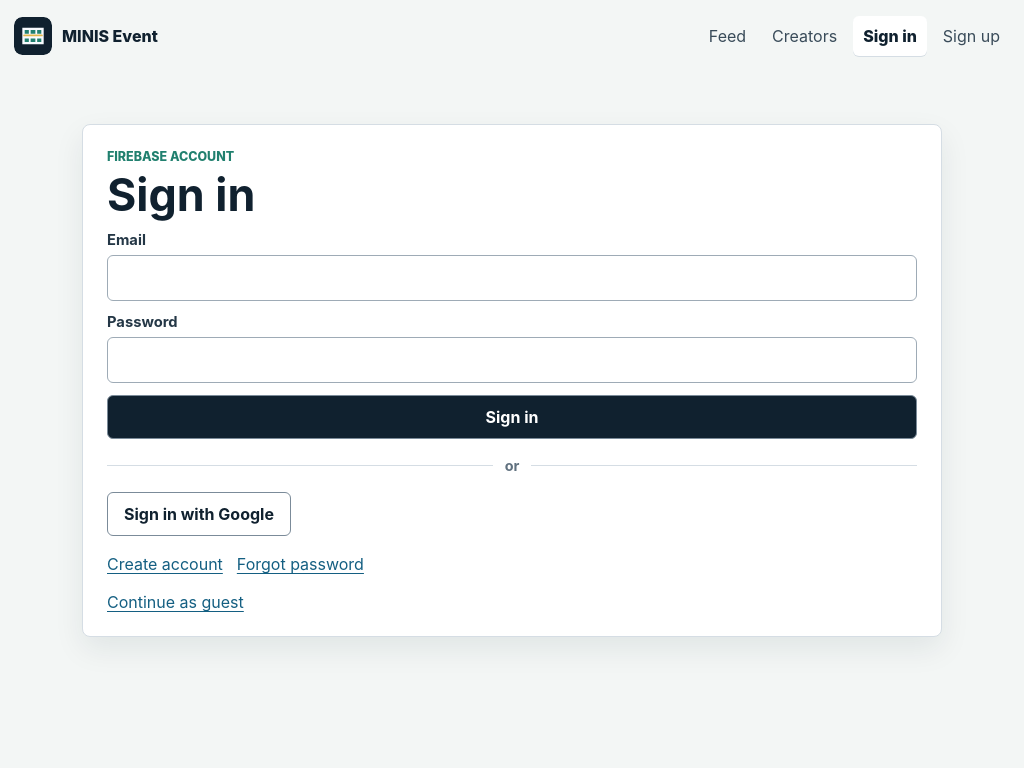
it: AppRoutes authentication routes › routes unverified password sign-in to email verification without bootstrap
Step 1. Type "viewer@example.com" into the field labelled "Email" → [512, 278], box [107,255,917,301]
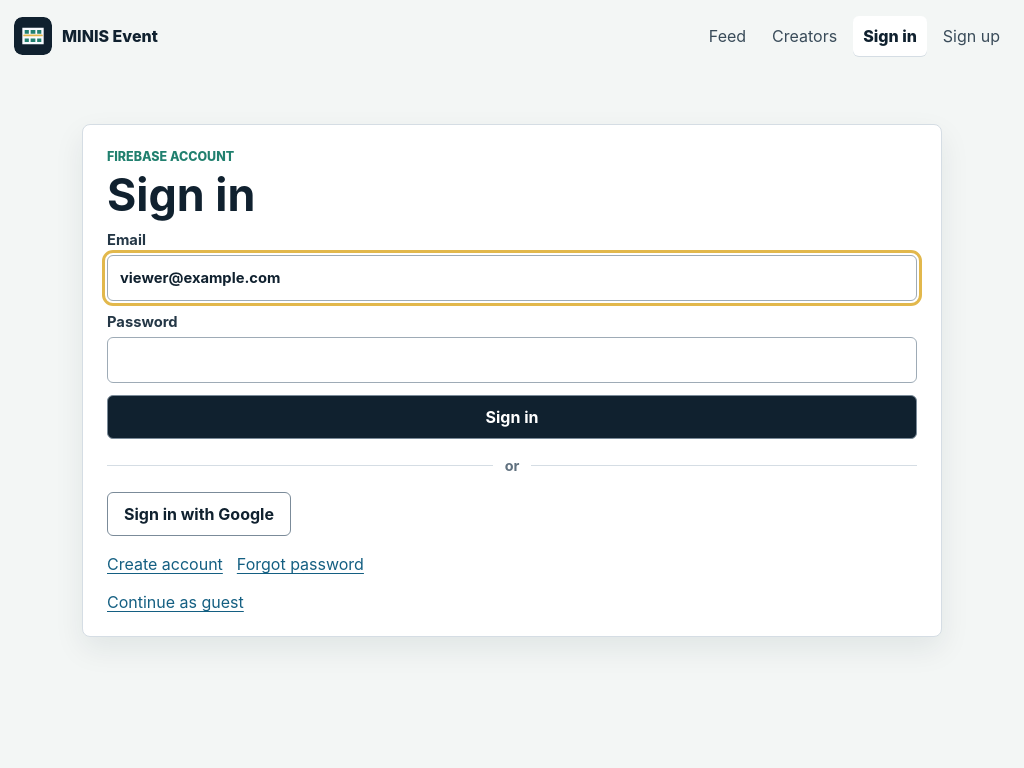
Step 2. Type "prepared-password" into the password field labelled "Password" → [512, 360], box [107,337,917,383]
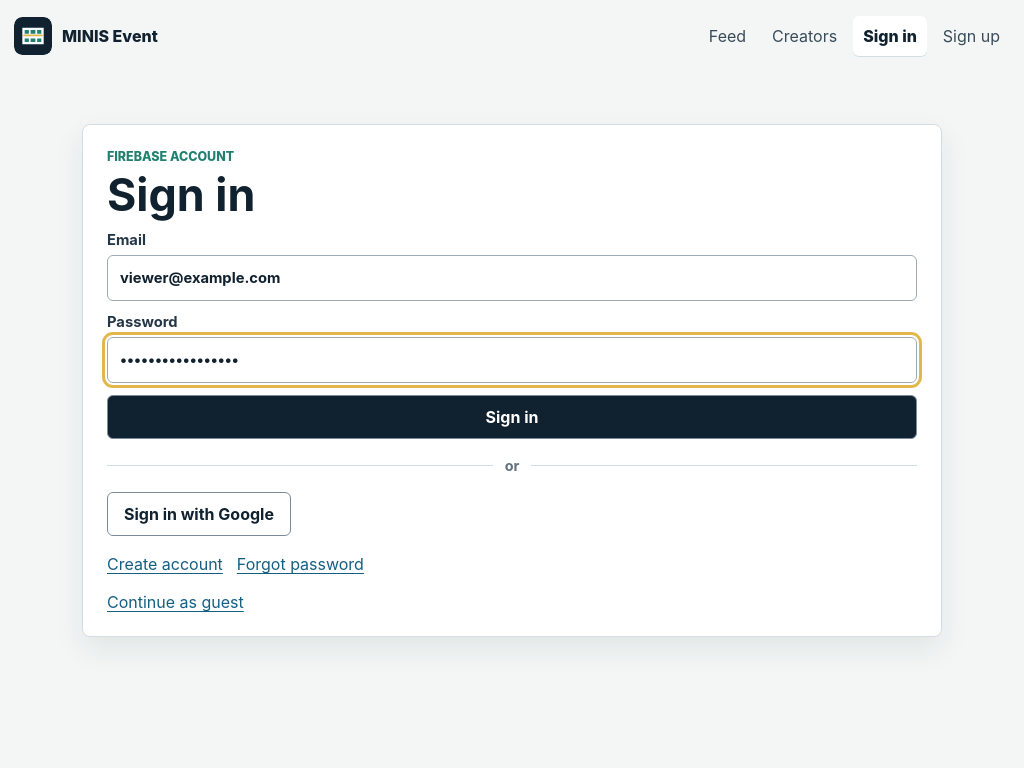
Step 3. Click the button "Sign in" → [512, 417], box [107,395,917,439]
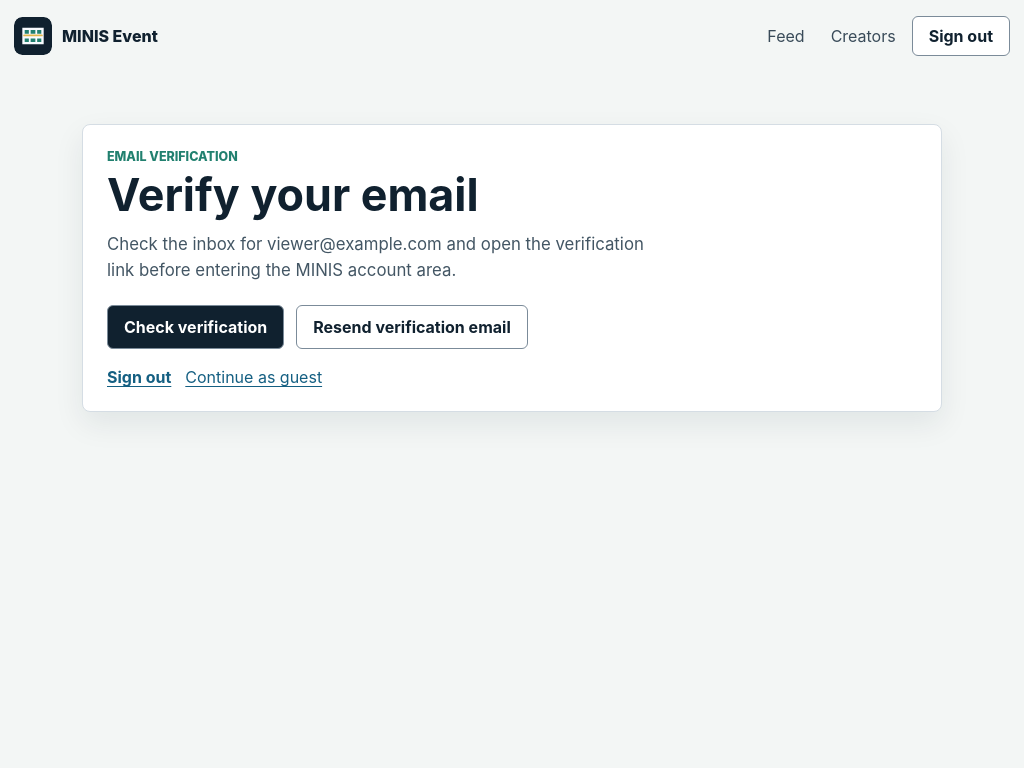
Now the heading "Verify your email" is shown, box [107,168,479,222]
